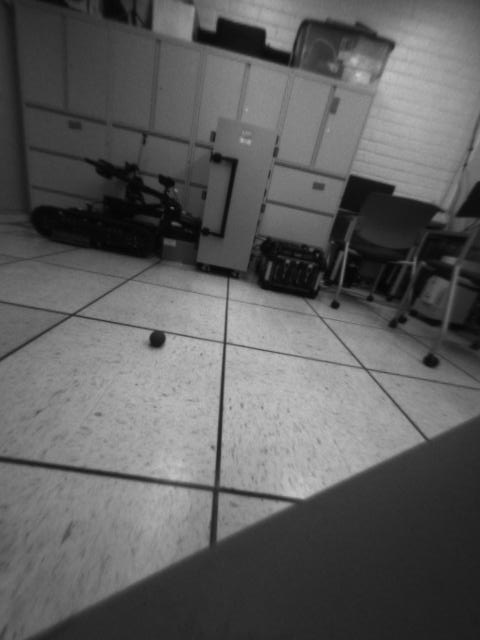dogtoy: (140, 324, 177, 354)
